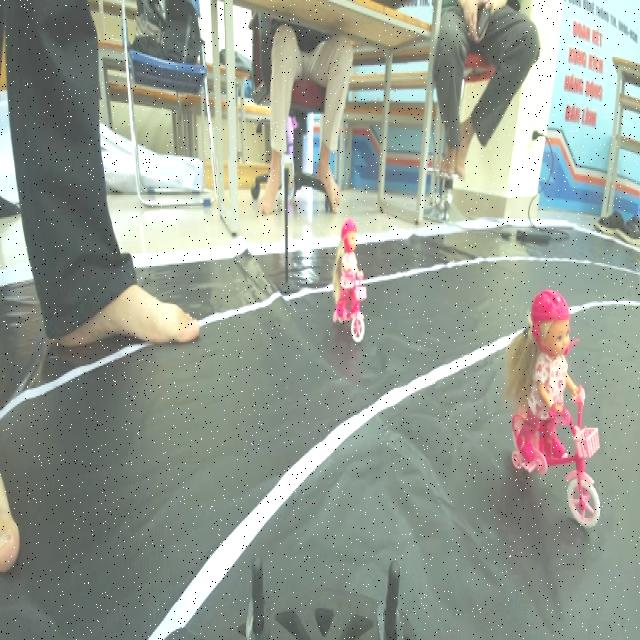pedestrian: (503, 278, 605, 533), (324, 213, 374, 338)
